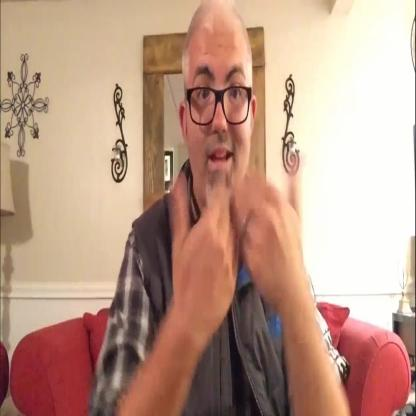HowAreYou: (165, 155, 305, 328)
